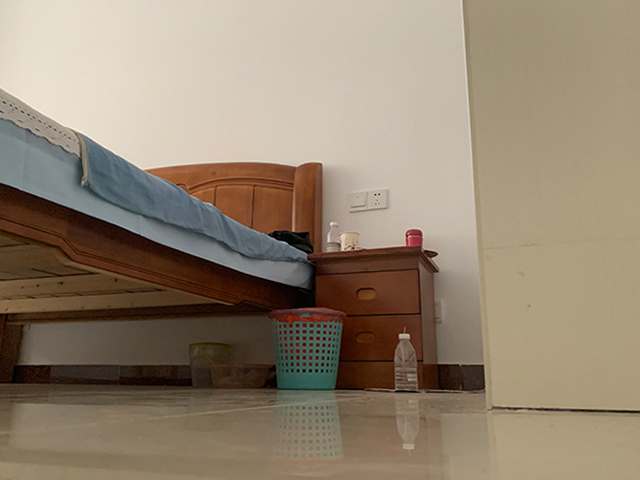bed: (1, 87, 323, 384)
cabinet: (308, 246, 440, 392)
trashcan: (268, 307, 346, 390)
